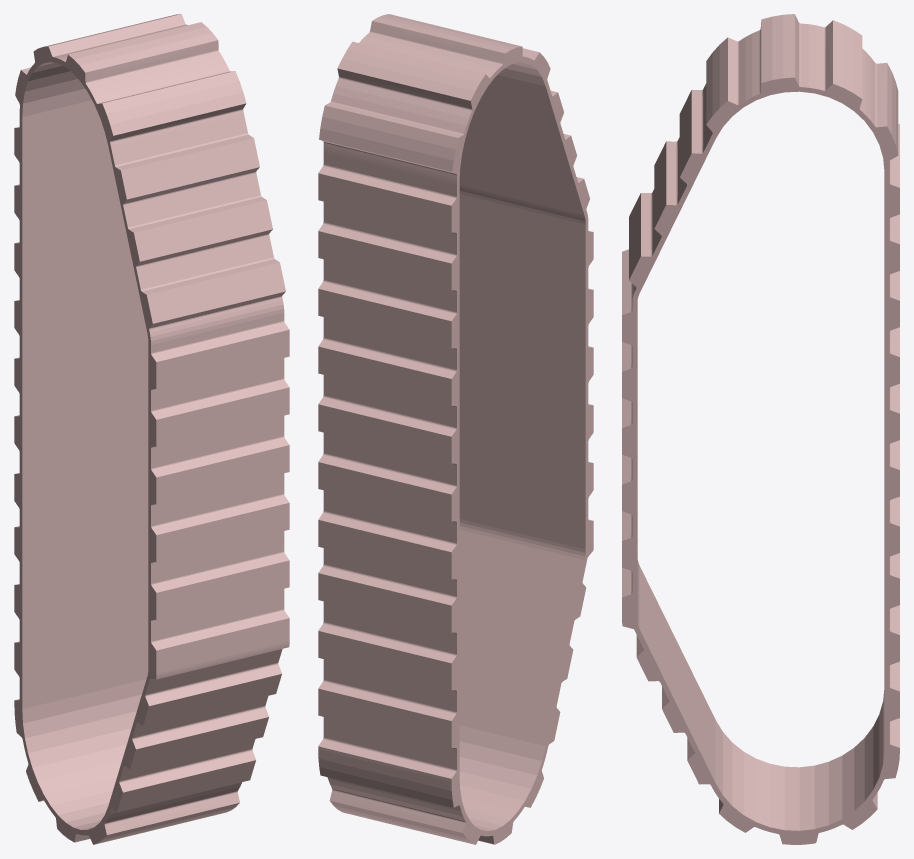
The model's file is main_belt_confirm_center.obj.
The picture shows the model from 3 angles, left to right: view 1: azimuth 30°, elevation 25°; view 2: azimuth 150°, elevation 25°; view 3: azimuth 270°, elevation 25°; orthographic projection. The views are drawn at different scales.
Visible parts, largest first — view 1: メッシュ フィーチャ1_1; view 2: メッシュ フィーチャ1_1; view 3: メッシュ フィーチャ1_1.
Part boxes in pixels (box(x1,y1,x2,y2)): メッシュ フィーチャ1_1: box(14, 14, 289, 844); メッシュ フィーチャ1_1: box(318, 14, 593, 844); メッシュ フィーチャ1_1: box(622, 14, 899, 844).
Bounding box in the file's own units: 145 × 816 × 268.
